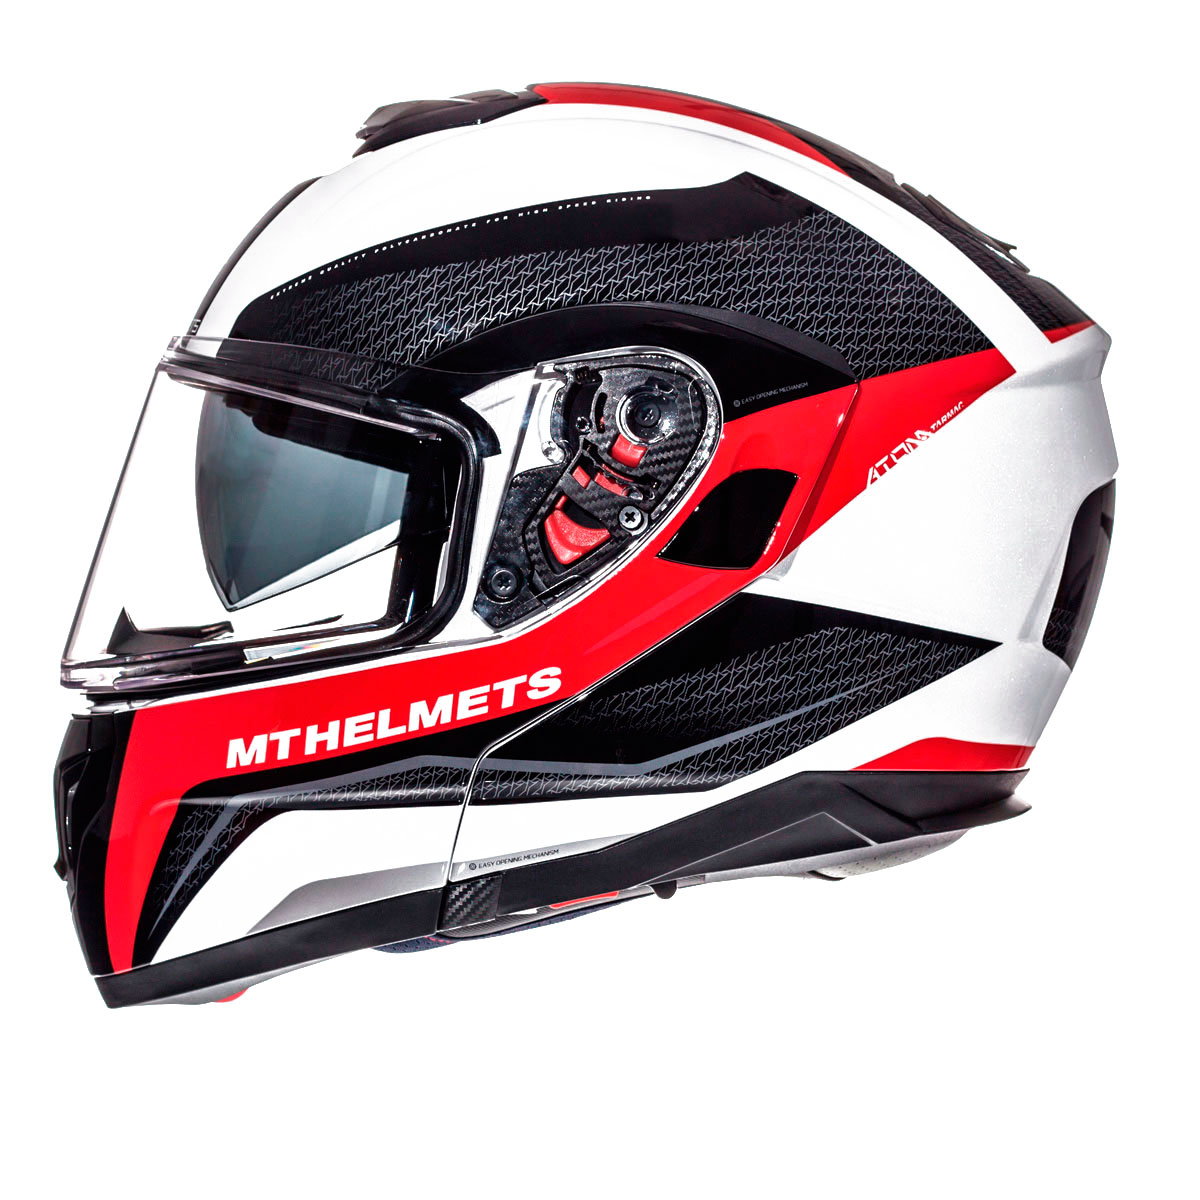with_helmet: (38, 58, 1129, 1031)
